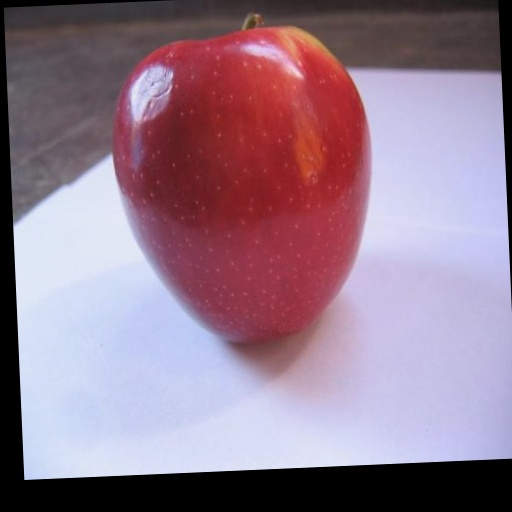fruit: (114, 27, 370, 341)
